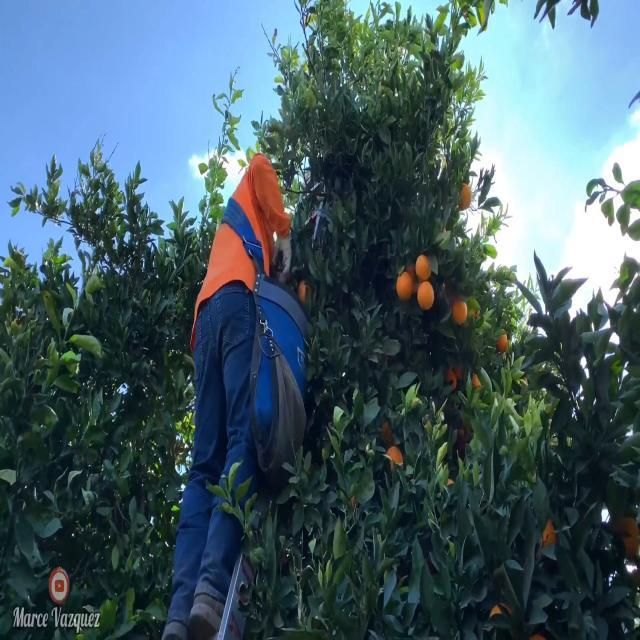Jeruk Sudah Matang: (394, 268, 414, 304), (416, 278, 436, 314), (384, 443, 404, 476), (414, 251, 432, 282), (451, 296, 468, 326), (458, 181, 473, 212), (495, 326, 508, 354)
